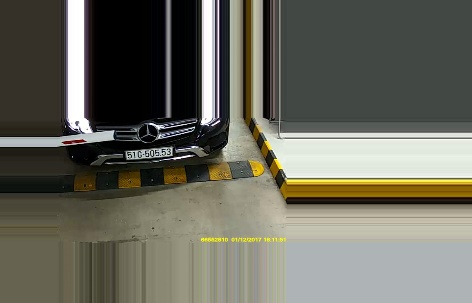plate: (124, 145, 176, 158)
